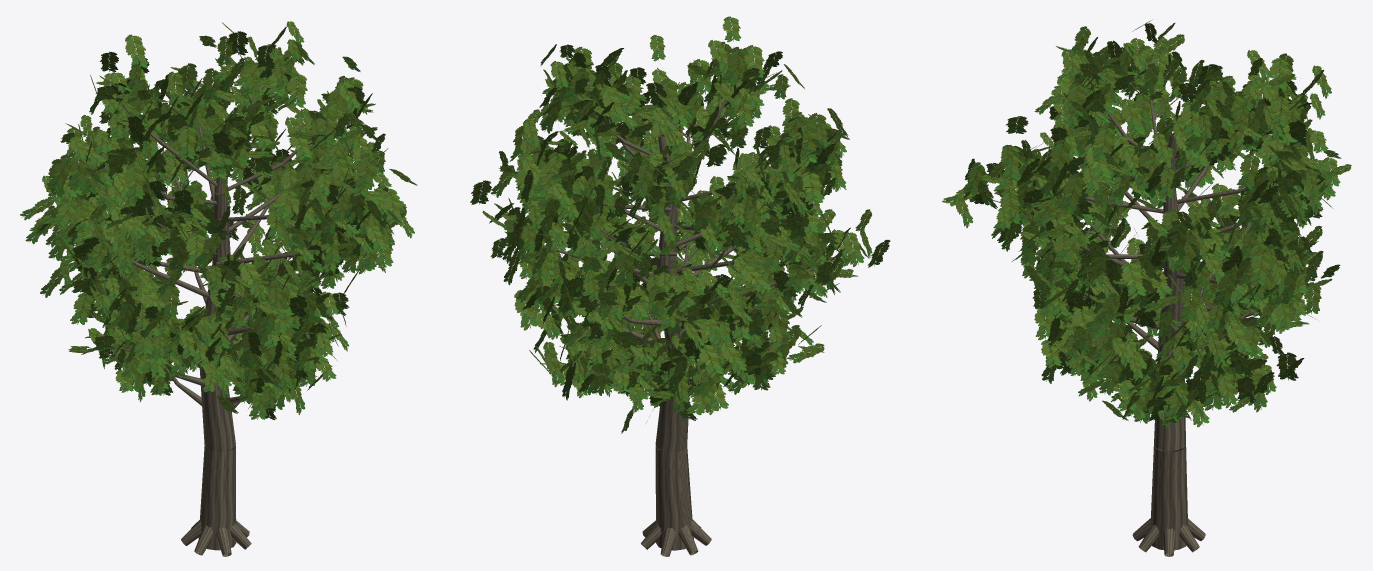
Rendered from oak-realistic.glb.
The picture shows the model from 3 angles, left to right: view 1: azimuth 30°, elevation 25°; view 2: azimuth 150°, elevation 25°; view 3: azimuth 270°, elevation 25°; orthographic projection. The views are drawn at different scales.
Parts seen in each view (by area): view 1: Oak_Leaves, Oak_Wood; view 2: Oak_Leaves, Oak_Wood; view 3: Oak_Leaves, Oak_Wood.
Boxes of the visible parts, x1,y1,x2,y2 form: Oak_Leaves: [20, 21, 417, 419]; Oak_Wood: [47, 47, 368, 556]; Oak_Leaves: [470, 16, 890, 433]; Oak_Wood: [509, 69, 851, 556]; Oak_Leaves: [942, 19, 1351, 427]; Oak_Wood: [992, 44, 1320, 556].
Bounding box in the file's own units: 10.28 × 13.73 × 10.6.
Materials: 2 (2 with a texture image).
